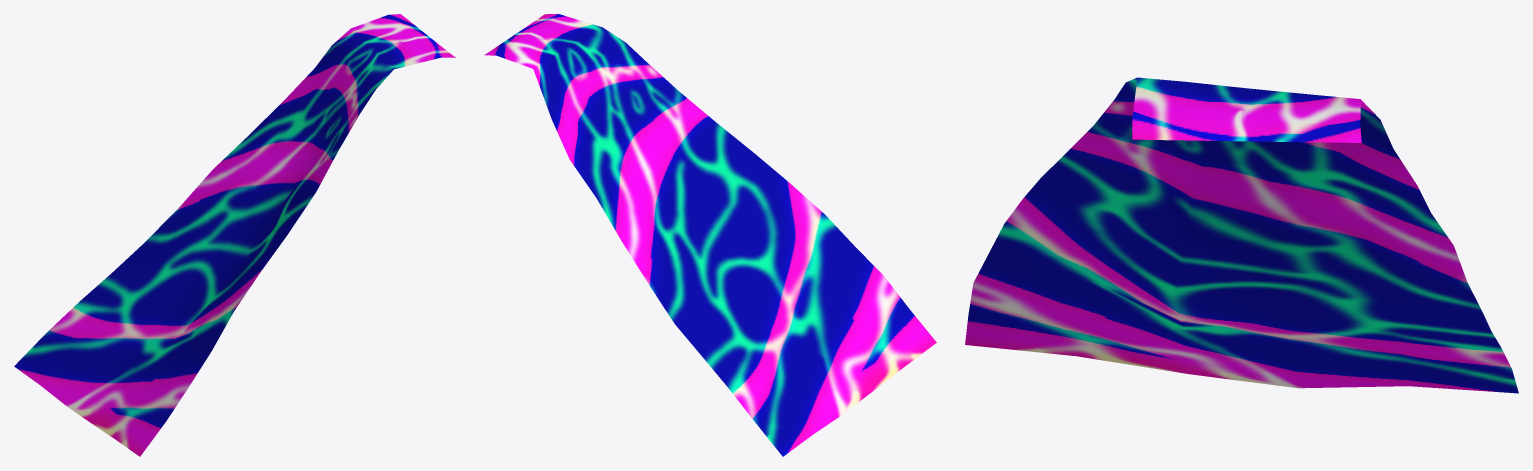
File: SM_Waterfall.fbx
3 views of the same model, side by side, from view 1: azimuth 30°, elevation 25°; view 2: azimuth 150°, elevation 25°; view 3: azimuth 270°, elevation 25° (orthographic). The views are drawn at different scales.
Visible parts, largest first — view 1: SM_Waterfall_LOD0; view 2: SM_Waterfall_LOD0; view 3: SM_Waterfall_LOD0.
Boxes of the visible parts, x1,y1,x2,y2 form: SM_Waterfall_LOD0: (14, 14, 455, 456); SM_Waterfall_LOD0: (484, 14, 936, 456); SM_Waterfall_LOD0: (965, 77, 1518, 393).
Size of the model in its own units: 1042 by 707 by 828.
Materials: 1 (1 with a texture image).
